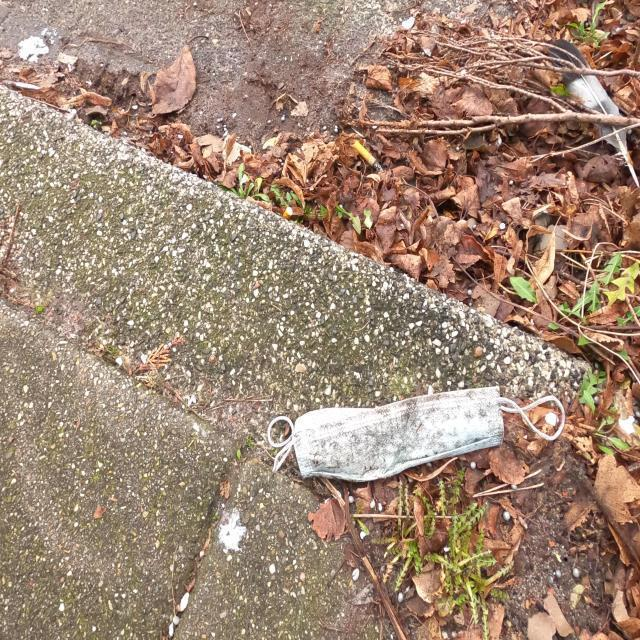Mask: (270, 357, 579, 482)
